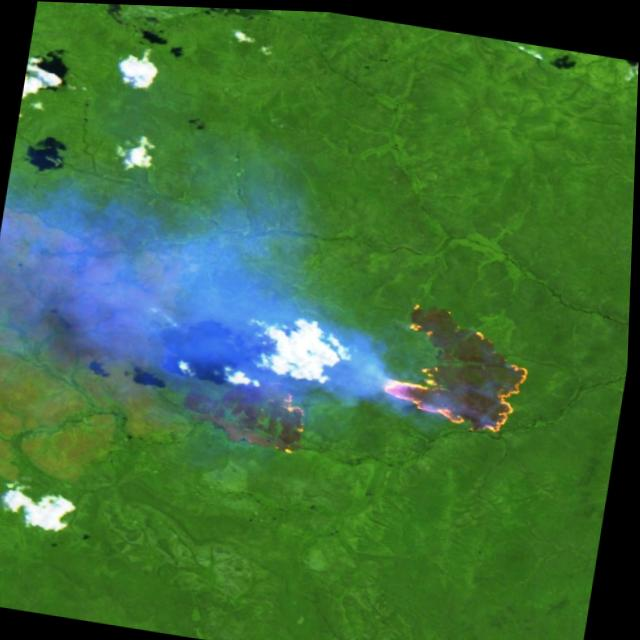fire: (368, 290, 554, 440), (269, 383, 320, 455)
